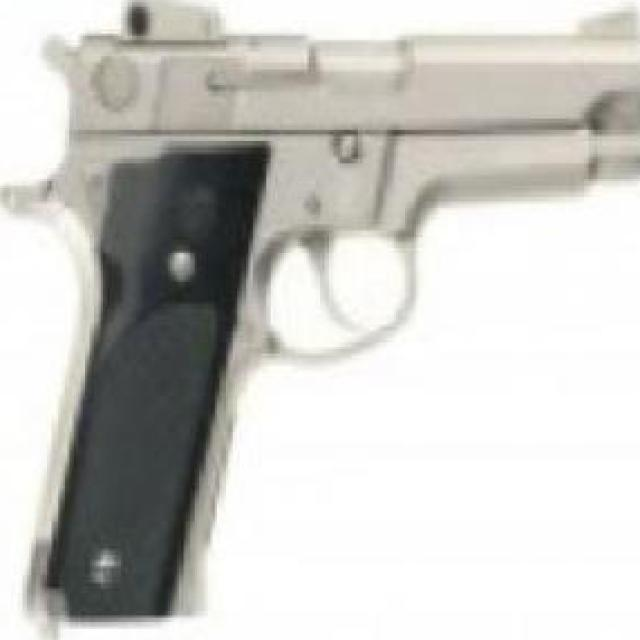pistol: (18, 0, 640, 618)
